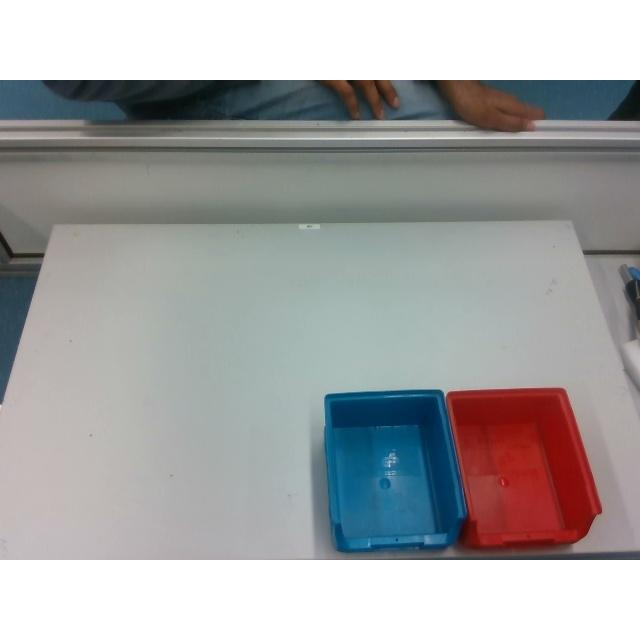container_box_blue: (326, 390, 466, 550)
container_box_red: (447, 387, 601, 547)
